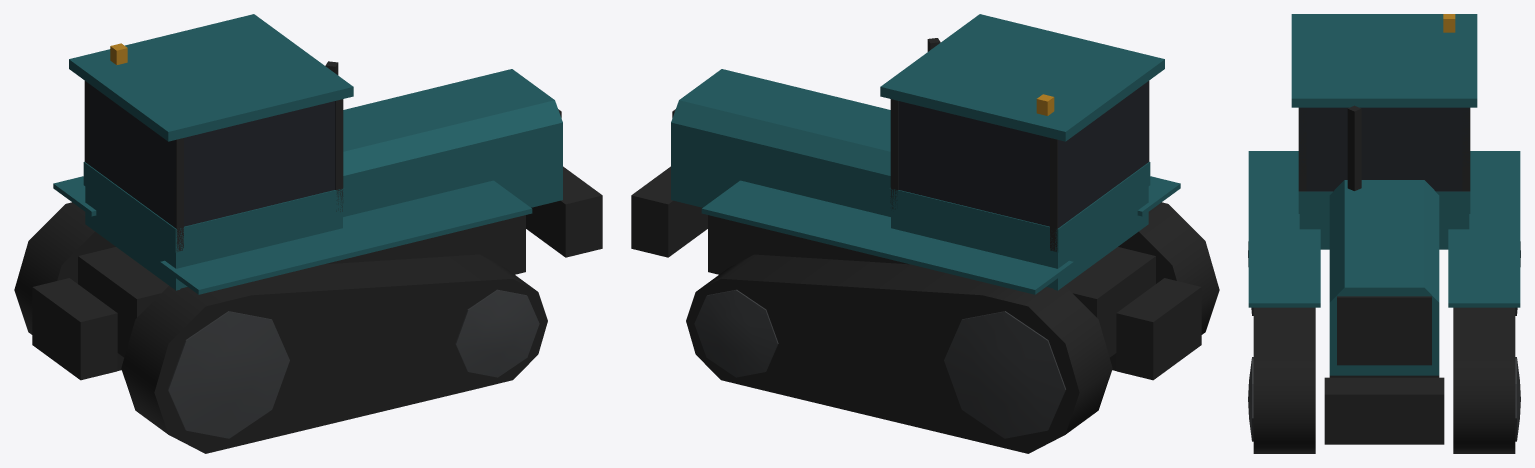
The model's file is SM_Prop_farm_tractortrack_0_LOD1.glb.
The picture shows the model from 3 angles, left to right: view 1: azimuth 30°, elevation 25°; view 2: azimuth 150°, elevation 25°; view 3: azimuth 270°, elevation 25°; orthographic projection. The views are drawn at different scales.
Visible parts, largest first — view 1: SM_Prop_farm_tractortrack_0_LOD1; view 2: SM_Prop_farm_tractortrack_0_LOD1; view 3: SM_Prop_farm_tractortrack_0_LOD1.
Boxes of the visible parts, x1,y1,x2,y2 form: SM_Prop_farm_tractortrack_0_LOD1: [14, 14, 602, 453]; SM_Prop_farm_tractortrack_0_LOD1: [631, 14, 1219, 453]; SM_Prop_farm_tractortrack_0_LOD1: [1248, 14, 1520, 453].
Size of the model in its own units: 5.55 by 3.37 by 2.73.
